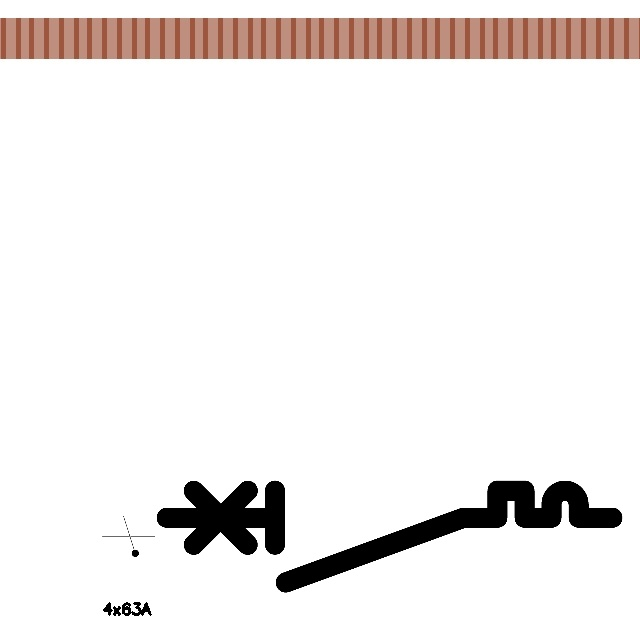interruptor_termomagnetico: (155, 479, 624, 594)
